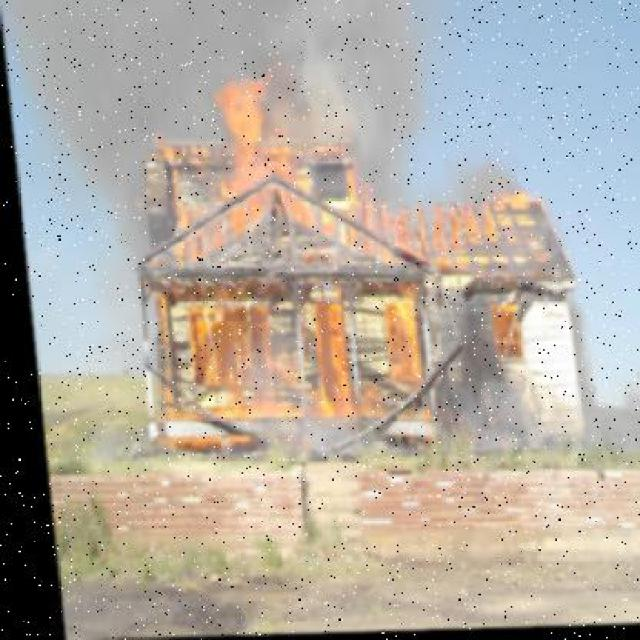fire: (114, 68, 431, 446)
